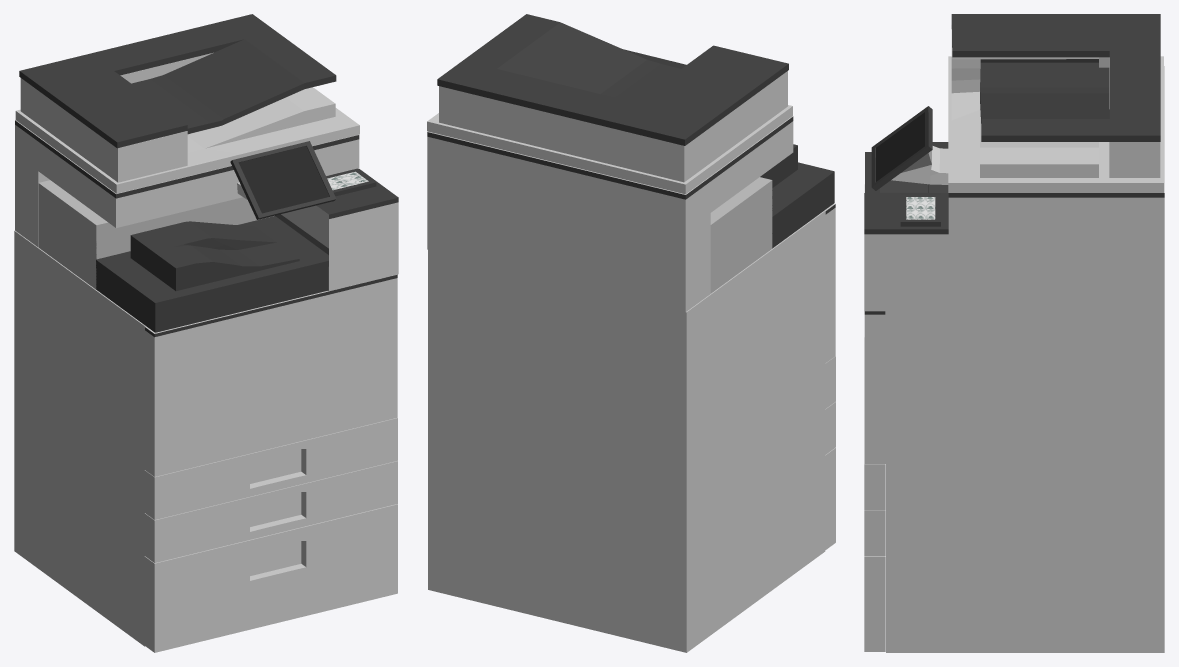
File: printer.glb
3 renders of one model, left to right at view 1: azimuth 30°, elevation 25°; view 2: azimuth 150°, elevation 25°; view 3: azimuth 270°, elevation 25°, orthographic. The views are drawn at different scales.
Parts seen in each view (by area): view 1: Cube, Cube.004, Cube.006, Cube.003, Cube.010, Cube.001, Cube.007, Cube.009, Cube.008; view 2: Cube, Cube.007, Cube.010, Cube.009, Cube.006, Cube.004, Cube.003, Cube.001; view 3: Cube, Cube.007, Cube.010, Cube.009, Cube.008, Cube.004, Cube.001, Cube.003, Cube.006.
Part boxes in pixels (<box>): Cube: <box>14,230,145,646</box>; Cube.004: <box>144,274,397,476</box>; Cube.006: <box>38,180,328,332</box>; Cube.003: <box>144,504,397,652</box>; Cube.010: <box>19,14,336,148</box>; Cube.001: <box>144,418,397,562</box>; Cube.007: <box>15,120,398,291</box>; Cube.009: <box>15,52,359,193</box>; Cube.008: <box>230,141,336,219</box>; Cube: <box>428,210,825,652</box>; Cube.007: <box>427,116,793,312</box>; Cube.010: <box>437,14,788,145</box>; Cube.009: <box>427,71,792,194</box>; Cube.006: <box>710,144,834,293</box>; Cube.004: <box>824,203,835,363</box>; Cube.003: <box>825,448,835,549</box>; Cube.001: <box>825,356,835,454</box>; Cube: <box>886,311,1164,652</box>; Cube.007: <box>864,66,1164,311</box>; Cube.010: <box>951,14,1160,141</box>; Cube.009: <box>948,29,1163,192</box>; Cube.008: <box>871,106,948,190</box>; Cube.004: <box>864,184,885,463</box>; Cube.001: <box>864,337,885,555</box>; Cube.003: <box>864,556,885,651</box>; Cube.006: <box>865,142,948,192</box>.
Bounding box in the file's own units: 0.8635 × 1.62 × 0.8592.
5 materials, 1 textured.
